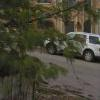Tree: (3, 0, 50, 77)
